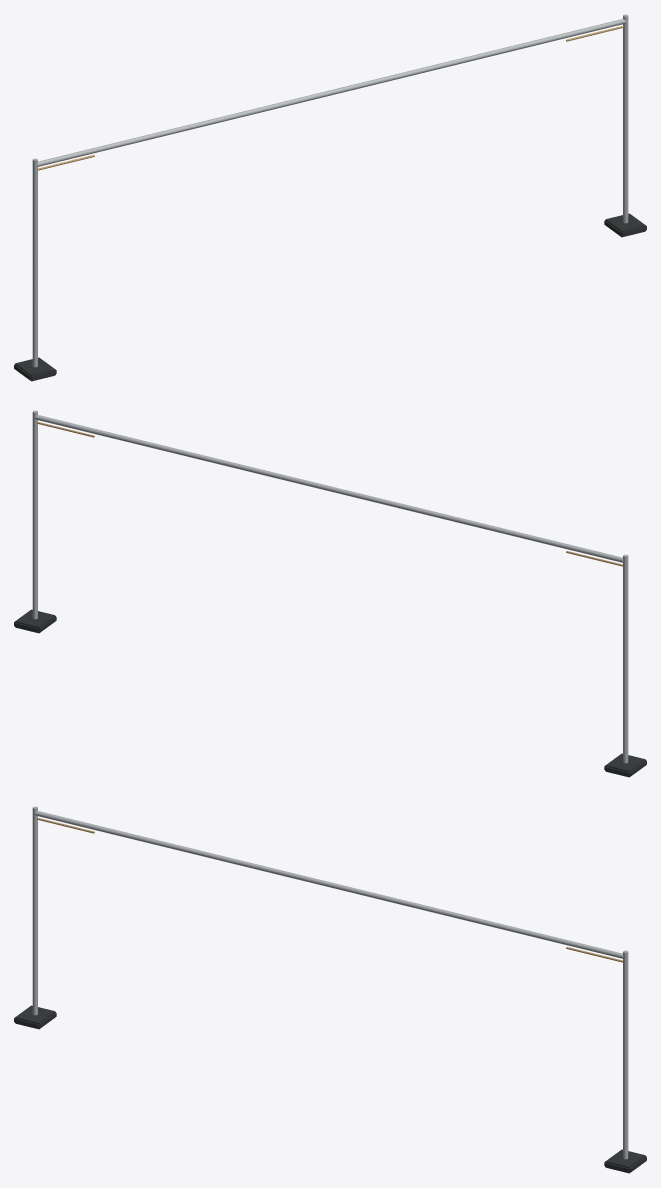
File: event_entry_portal.glb
3 renders of one model, top to bottom at view 1: azimuth 30°, elevation 25°; view 2: azimuth 150°, elevation 25°; view 3: azimuth 330°, elevation 25°, orthographic.
Visible parts, largest first — view 1: event_entry_portal_Brushed_stainless, event_entry_portal_Anodised_graphite; view 2: event_entry_portal_Brushed_stainless, event_entry_portal_Anodised_graphite; view 3: event_entry_portal_Brushed_stainless, event_entry_portal_Anodised_graphite.
Boxes of the visible parts, x1,y1,x2,y2 form: event_entry_portal_Brushed_stainless: (32,14,628,367); event_entry_portal_Anodised_graphite: (14,213,646,381); event_entry_portal_Brushed_stainless: (32,410,628,763); event_entry_portal_Anodised_graphite: (14,609,646,777); event_entry_portal_Brushed_stainless: (32,806,628,1159); event_entry_portal_Anodised_graphite: (14,1005,646,1173).
Bounding box in the file's own units: 12.12 × 4 × 0.6.
